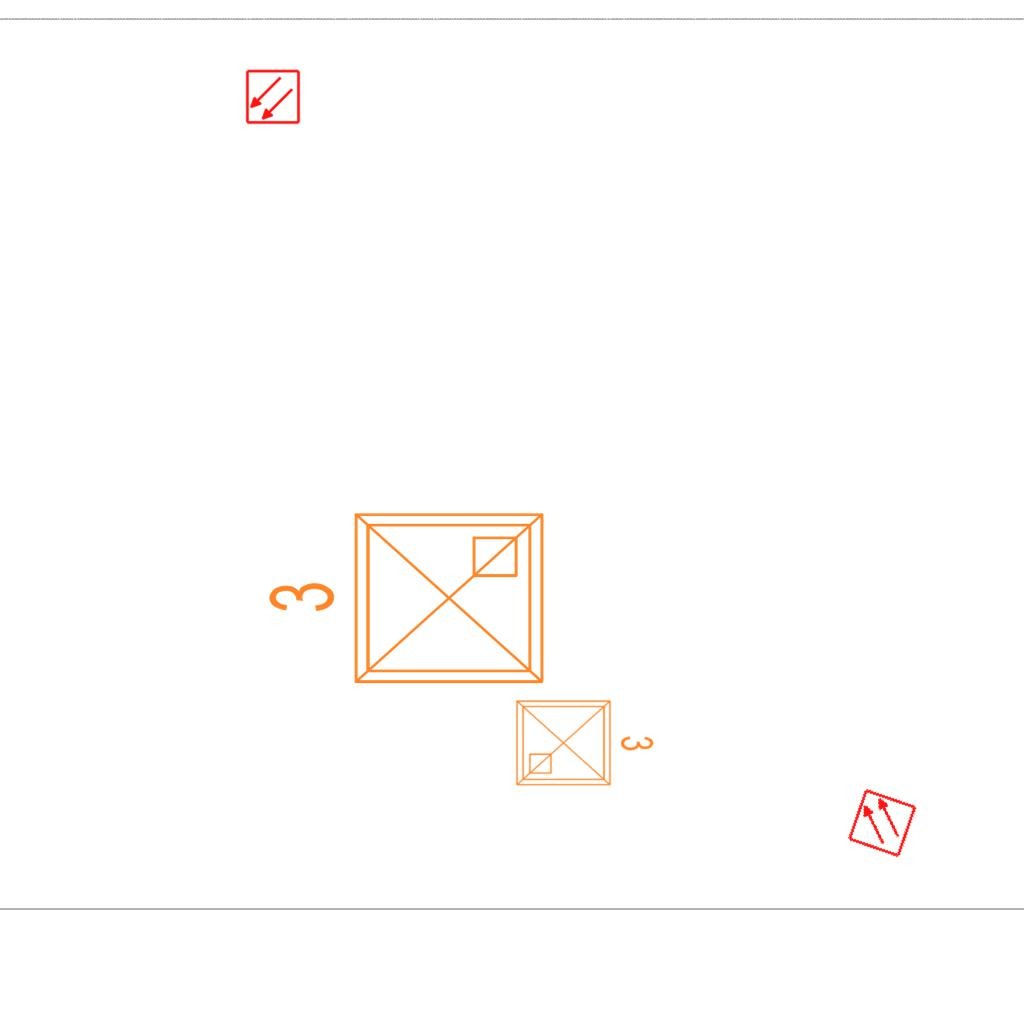Einbaudownlights_LED_Konferenzraeume: (258, 498, 558, 706), (509, 689, 659, 793)
RMO_Rauchmelder_optischer: (846, 787, 918, 859), (245, 69, 301, 125)
